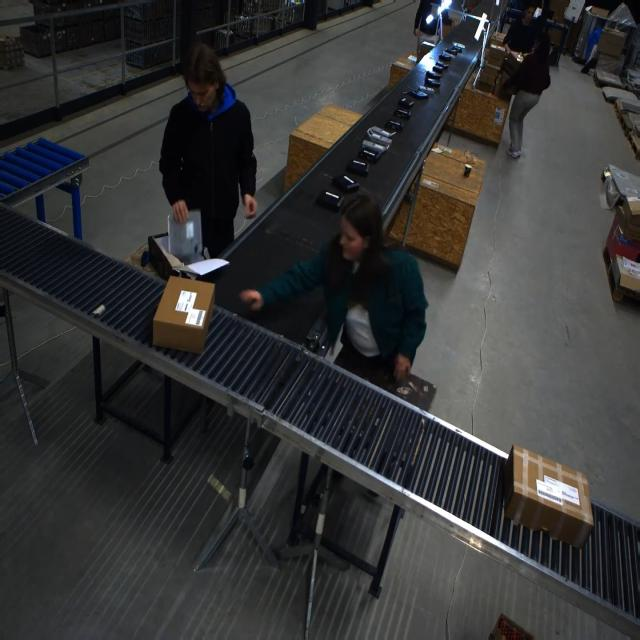box: (503, 446, 594, 547), (152, 276, 216, 353)
product: (161, 201, 211, 257), (315, 191, 343, 212), (332, 174, 358, 193), (360, 147, 383, 164), (367, 126, 393, 141), (362, 139, 388, 154), (347, 159, 369, 176), (385, 119, 403, 131), (397, 97, 414, 109), (409, 89, 429, 99), (395, 108, 412, 119), (426, 78, 441, 88), (433, 61, 448, 70), (438, 53, 453, 61), (451, 46, 463, 53)
